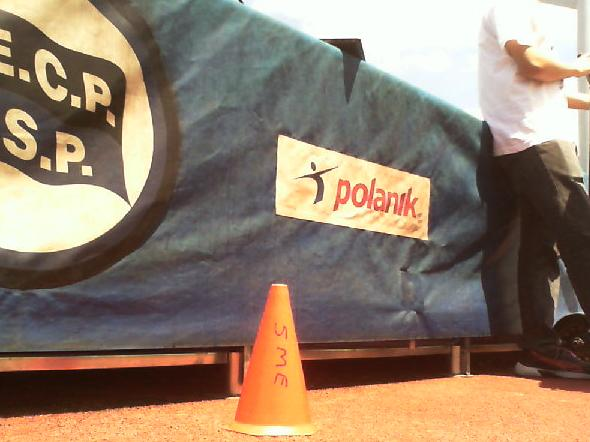0 cone: (221, 283, 323, 436)
